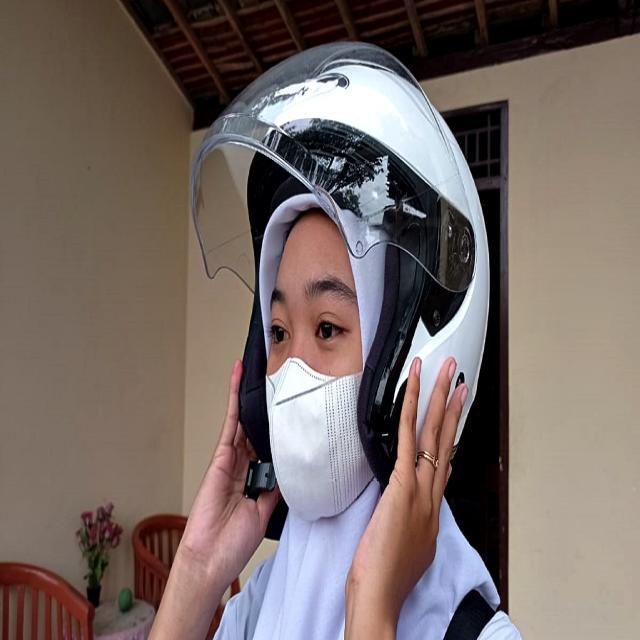Helm: (181, 32, 504, 486)
